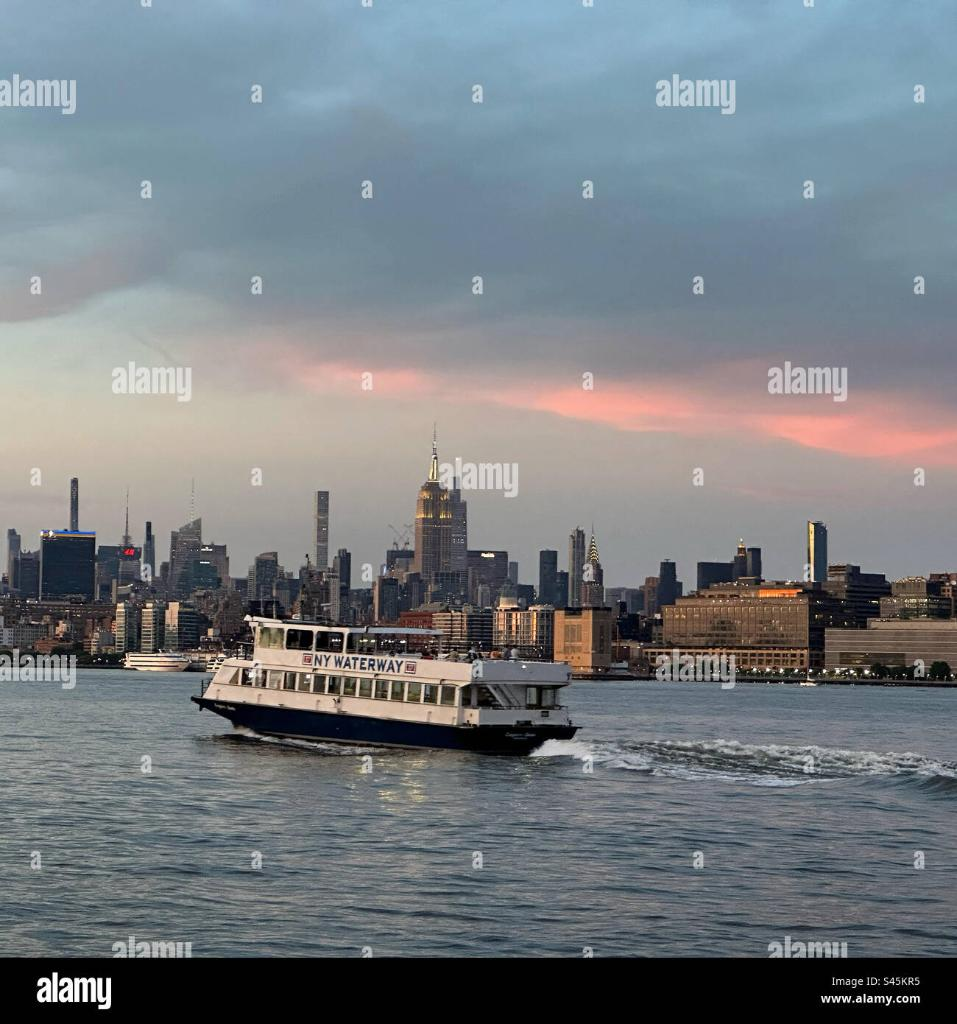PassengerShip: (163, 592, 583, 770)
